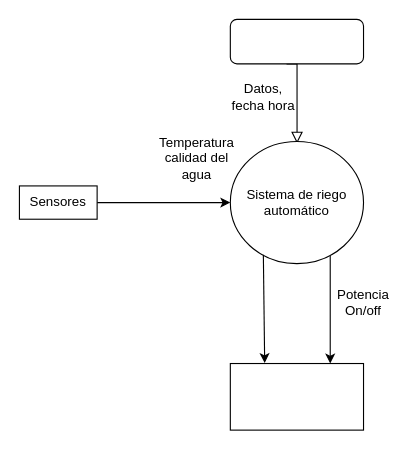
The diagram is 416 pixels wide and 450 high, and some of its shapes have lost their labels. Here are the shapes that lost their labels. From the top down, the box of each, then its label:
(229, 18, 364, 64): Usuario
(229, 362, 364, 430): Bomba de agua
